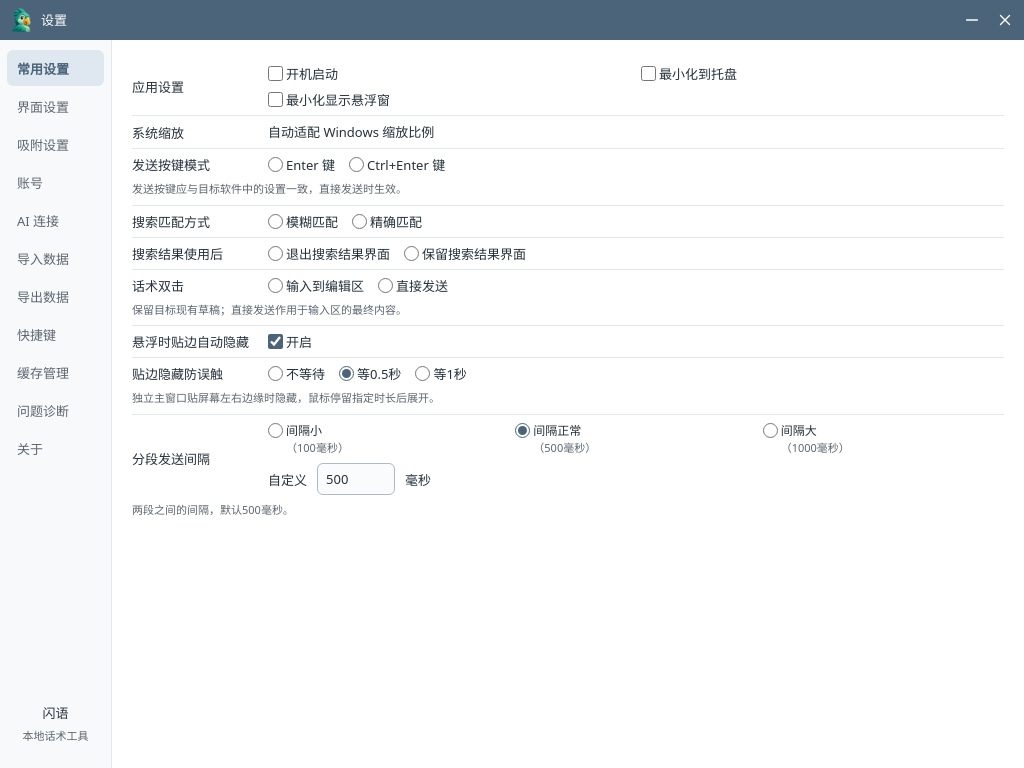
Test: 常用设置贴边隐藏与发送间隔 › 展示自动缩放状态、默认开启和互斥的等待选项，关闭后保留等待值
Expected: the text "自动适配 Windows 缩放比例" is shown, [268,122,434,142]
Expected: the checkbox named "悬浮时贴边自动隐藏" is checked, [268,334,283,349]
Click the radio button labelled "等1秒". click: (423, 374)
box: [415,366,430,381]
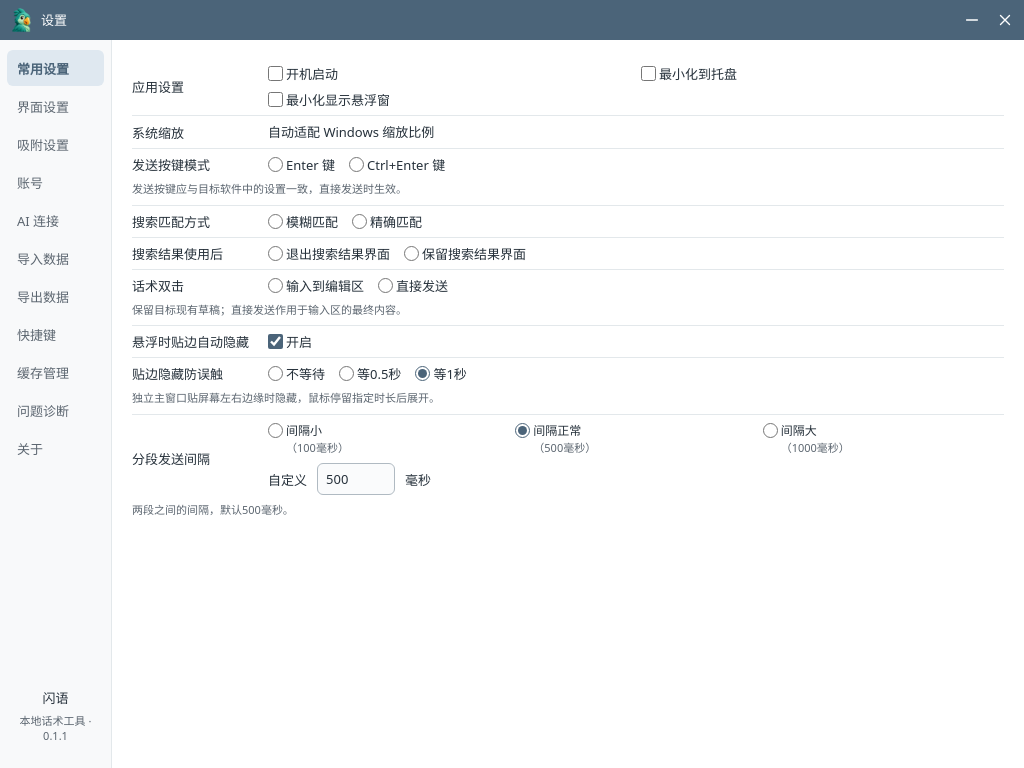
Expected: the radio button labelled "等1秒" is checked, [415,366,430,381]
Expected: the radio button labelled "等0.5秒" is not checked, [339,366,354,381]
Click the checkbox named "悬浮时贴边自动隐藏". click: (276, 342)
box: [268,334,283,349]
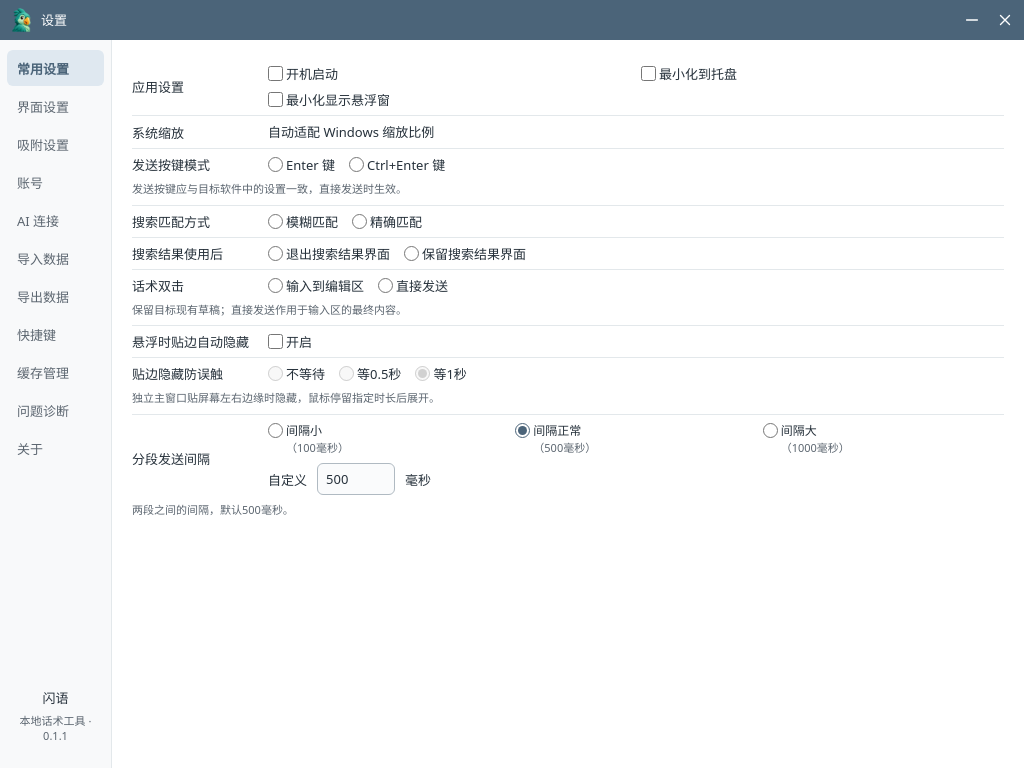
Expected: the radio button labelled "等1秒" is disabled, [415,366,430,381]
